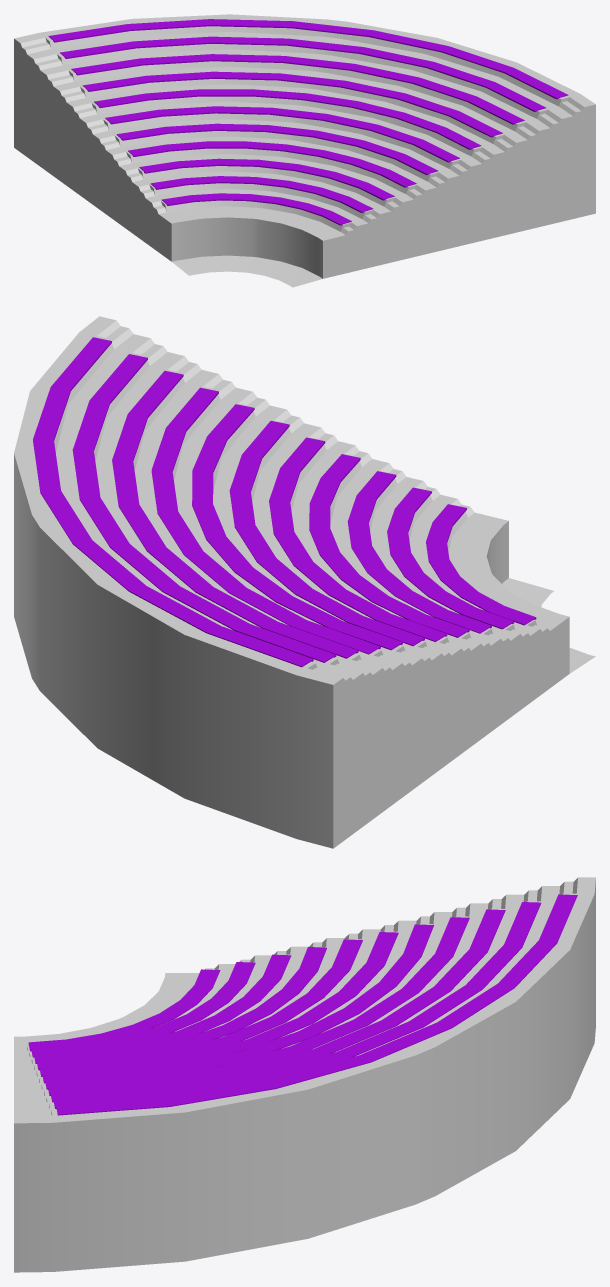
File: Kulma.fbx
3 views of the same model, one above another, from view 1: azimuth 30°, elevation 25°; view 2: azimuth 150°, elevation 25°; view 3: azimuth 270°, elevation 25° (orthographic). The views are drawn at different scales.
Parts seen in each view (by area): view 1: Kulma; view 2: Kulma; view 3: Kulma.
Part boxes in pixels (bbox=[...]): Kulma: bbox=[14, 14, 595, 287]; Kulma: bbox=[14, 316, 595, 848]; Kulma: bbox=[14, 877, 595, 1272].
Bounding box in the file's own units: 30.4 × 8.65 × 30.4.
